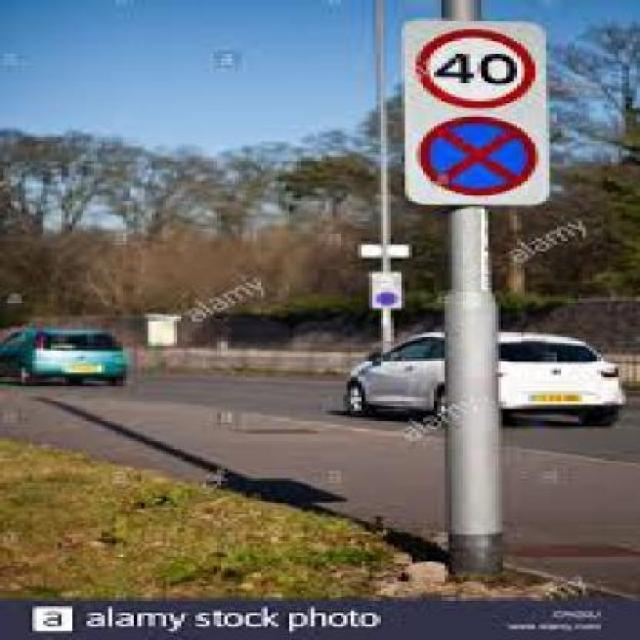forb_speed_over_40: (419, 32, 536, 109)
